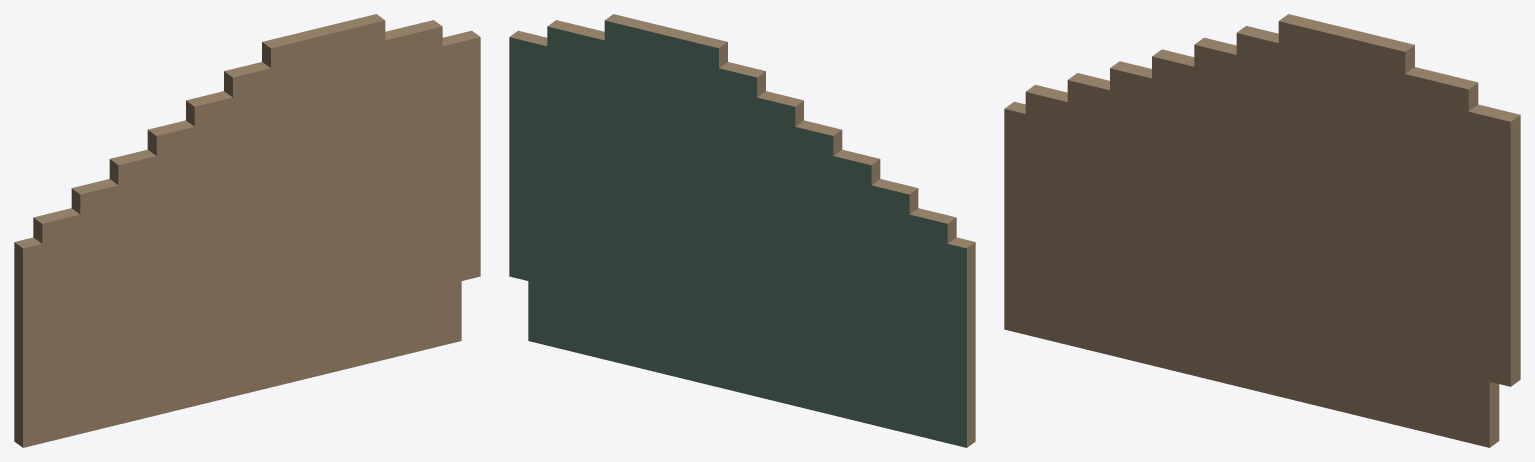
File: SM_BarrierSign_4.fbx
3 views of the same model, side by side, from view 1: azimuth 30°, elevation 25°; view 2: azimuth 150°, elevation 25°; view 3: azimuth 330°, elevation 25° (orthographic). The views are drawn at different scales.
Parts seen in each view (by area): view 1: SM_BarrierSign_4; view 2: SM_BarrierSign_4; view 3: SM_BarrierSign_4.
Boxes of the visible parts, <box> form: SM_BarrierSign_4: <box>14,14,480,447</box>; SM_BarrierSign_4: <box>509,14,975,447</box>; SM_BarrierSign_4: <box>1004,14,1520,447</box>.
Size of the model in its own units: 60 by 2 by 42.5.
